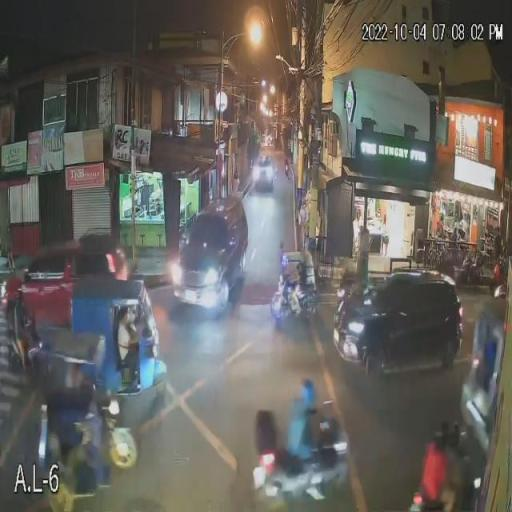helmet: (299, 380, 318, 412), (450, 427, 470, 454), (431, 421, 444, 450), (14, 287, 24, 303)
motorcycle: (248, 419, 351, 499), (8, 321, 40, 366), (408, 494, 483, 511)
rider: (289, 386, 324, 484), (448, 427, 475, 506), (428, 423, 446, 504), (12, 289, 26, 361)
